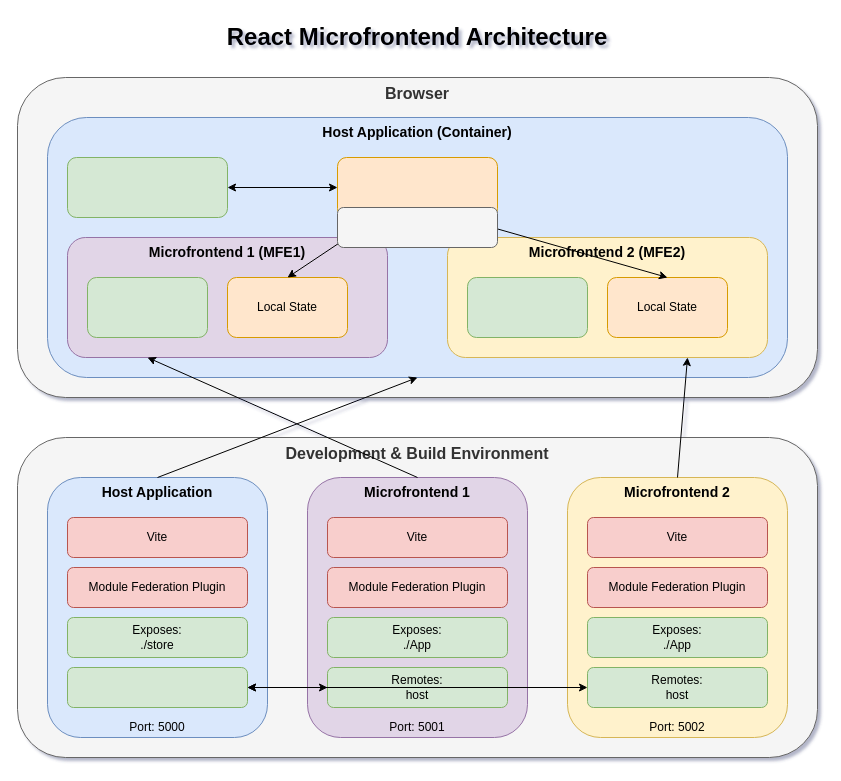
Image size: 841x781. Some labels were removed from this diagram. Here are the shapes that lost their labels. From the top down, the centre of each, then its label:
(x=147, y=187): Host App Component
(x=417, y=187): Shared State (Zustand Store)
(x=417, y=227): Shared Dependencies: React, React DOM
(x=147, y=307): MFE1 Components
(x=527, y=307): MFE2 Components
(x=157, y=687): Remotes: mfe1, mfe2
